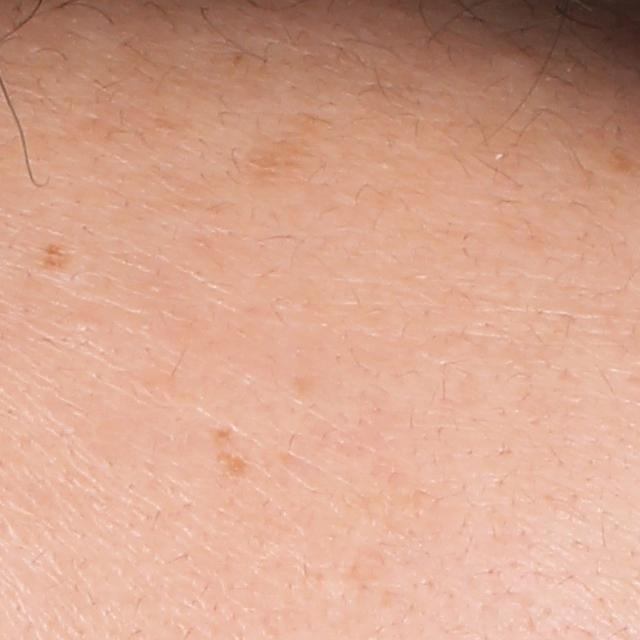melasma: (213, 423, 250, 486)
